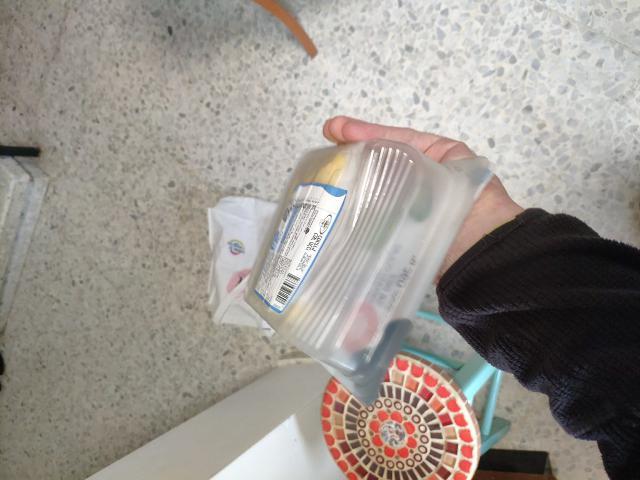cheese: (178, 194, 451, 312)
